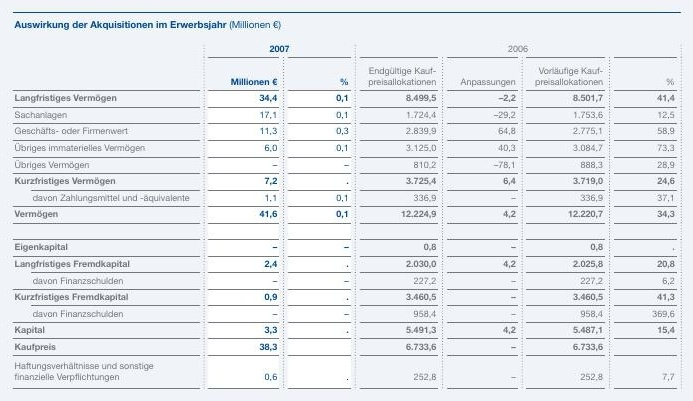table: (0, 0, 693, 401)
